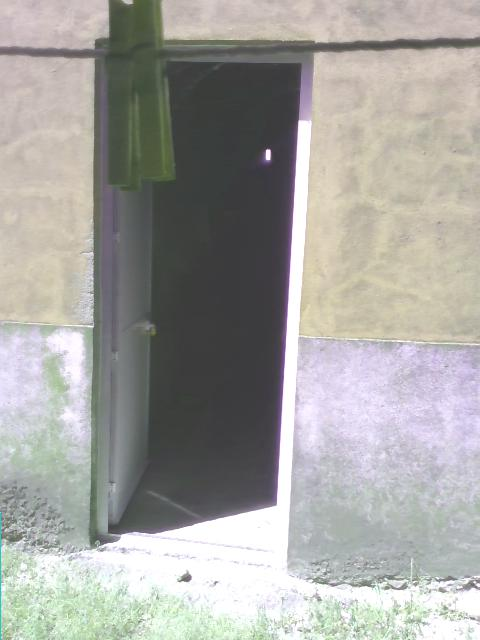open_door: (93, 35, 316, 573)
